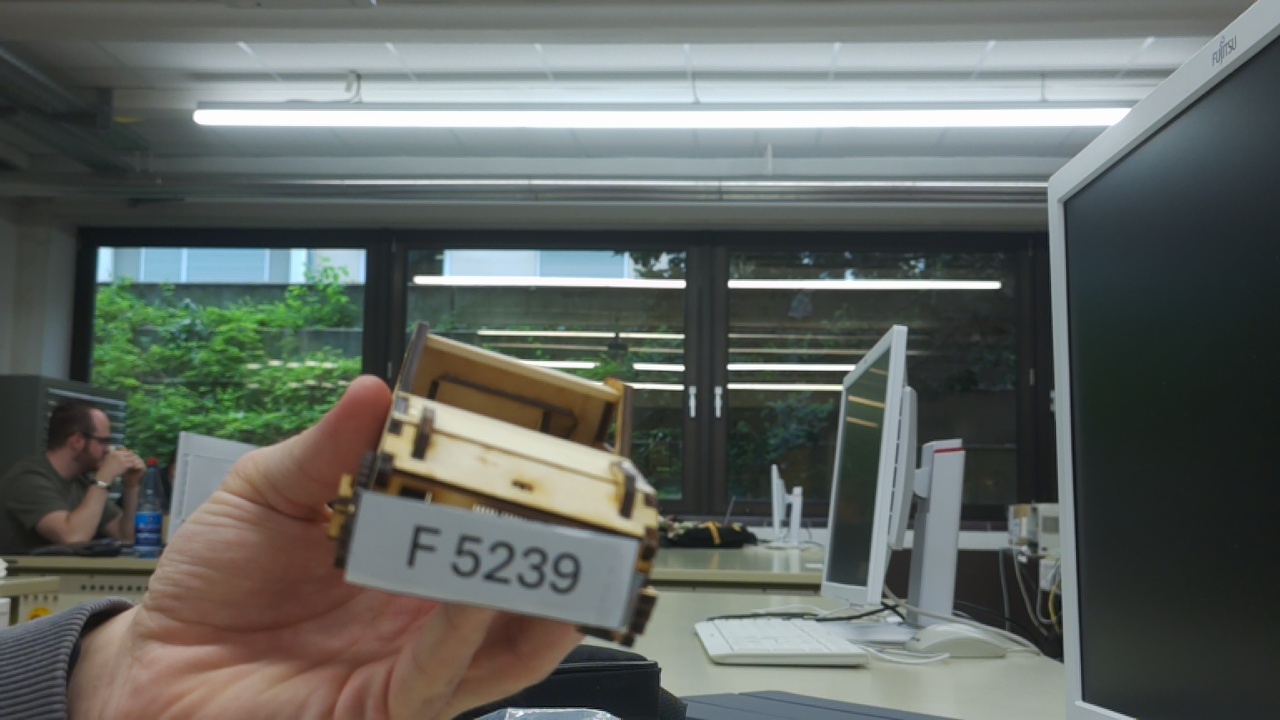license_plate: (336, 486, 656, 637)
